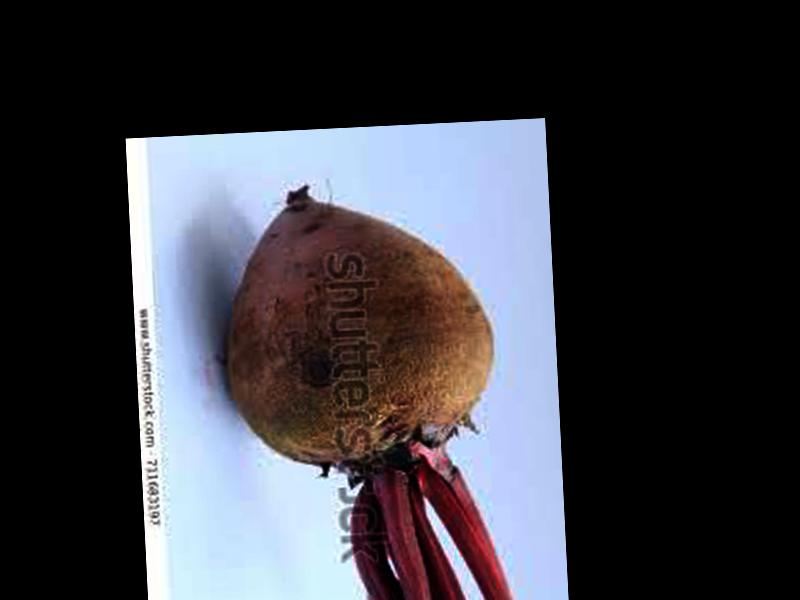Beet: (219, 183, 511, 600)
